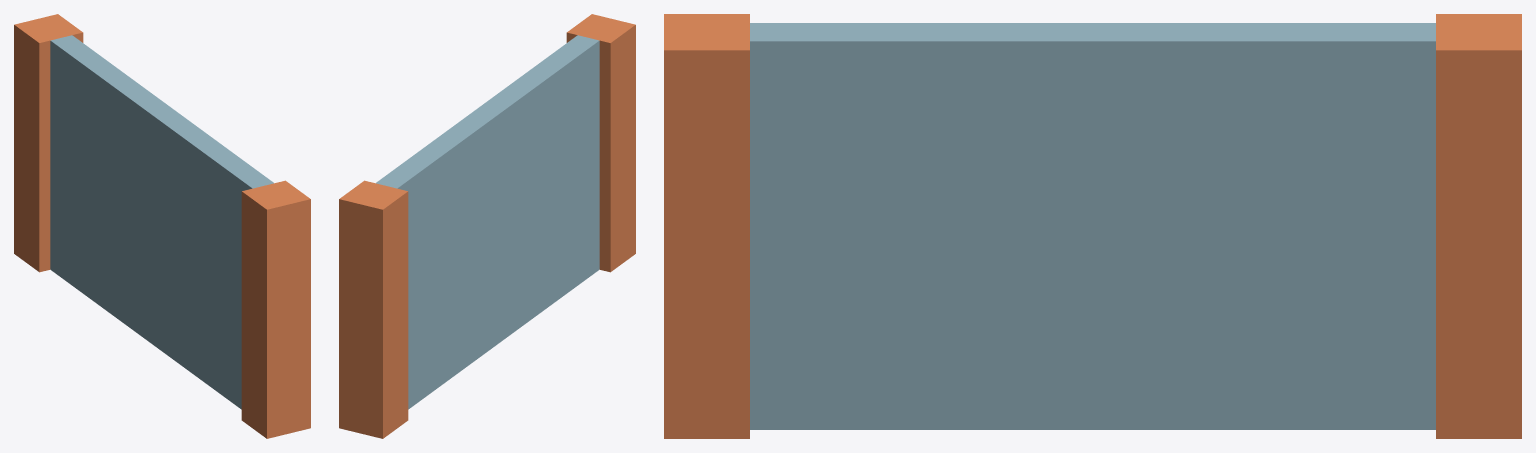
Rendered from wallHalf.obj.
The picture shows the model from 3 angles, left to right: view 1: azimuth 30°, elevation 25°; view 2: azimuth 150°, elevation 25°; view 3: azimuth 270°, elevation 25°; orthographic projection. The views are drawn at different scales.
Visible parts, largest first — view 1: wallHalf; view 2: wallHalf; view 3: wallHalf.
Part boxes in pixels (<box>): wallHalf: <box>14,14,310,438</box>; wallHalf: <box>339,14,635,438</box>; wallHalf: <box>664,14,1521,438</box>.
Bounding box in the file's own units: 0.1 × 0.5 × 1.
